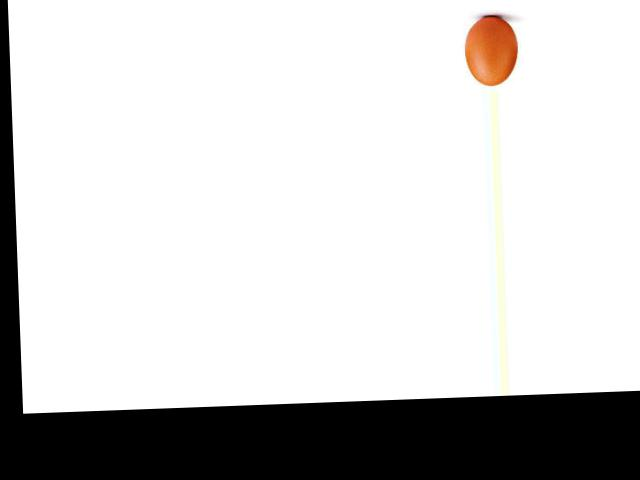egg: (465, 14, 518, 86)
